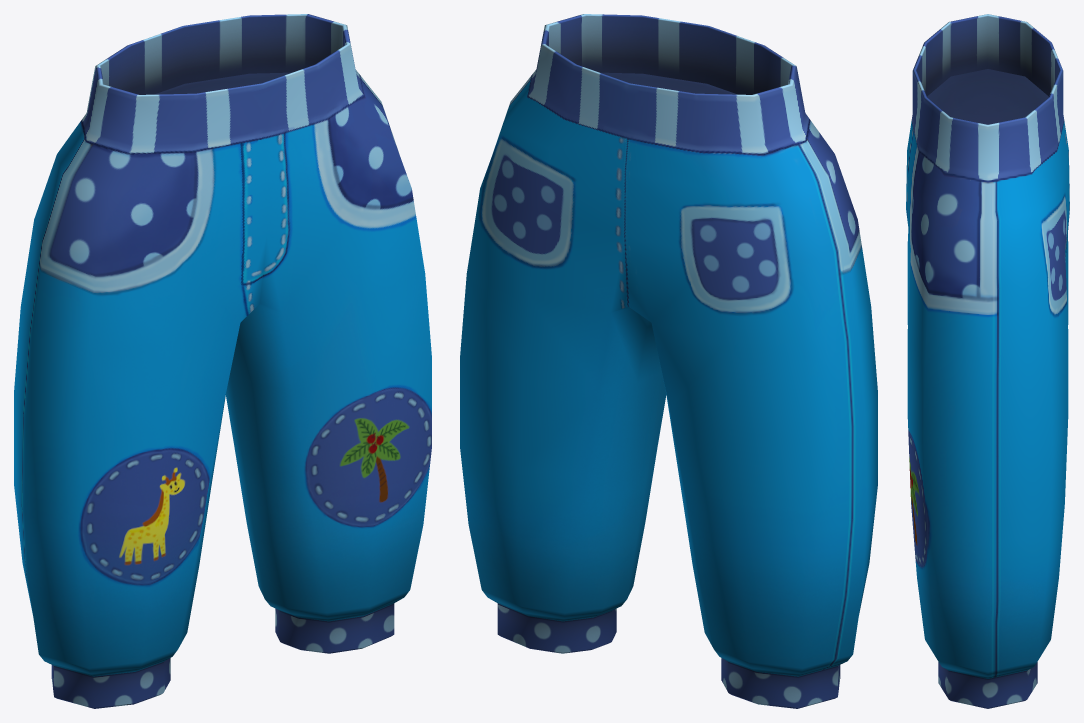
Rendered from Trouser.fbx.
3 views of the same model, side by side, from view 1: azimuth 30°, elevation 25°; view 2: azimuth 150°, elevation 25°; view 3: azimuth 270°, elevation 25° (orthographic). The views are drawn at different scales.
Parts seen in each view (by area): view 1: 072; view 2: 072; view 3: 072.
Boxes of the visible parts, x1,y1,x2,y2 form: 072: (14, 14, 431, 708); 072: (460, 14, 877, 708); 072: (906, 14, 1069, 708).
Size of the model in its own units: 36.15 by 52.63 by 13.86.
1 material, 1 textured.
